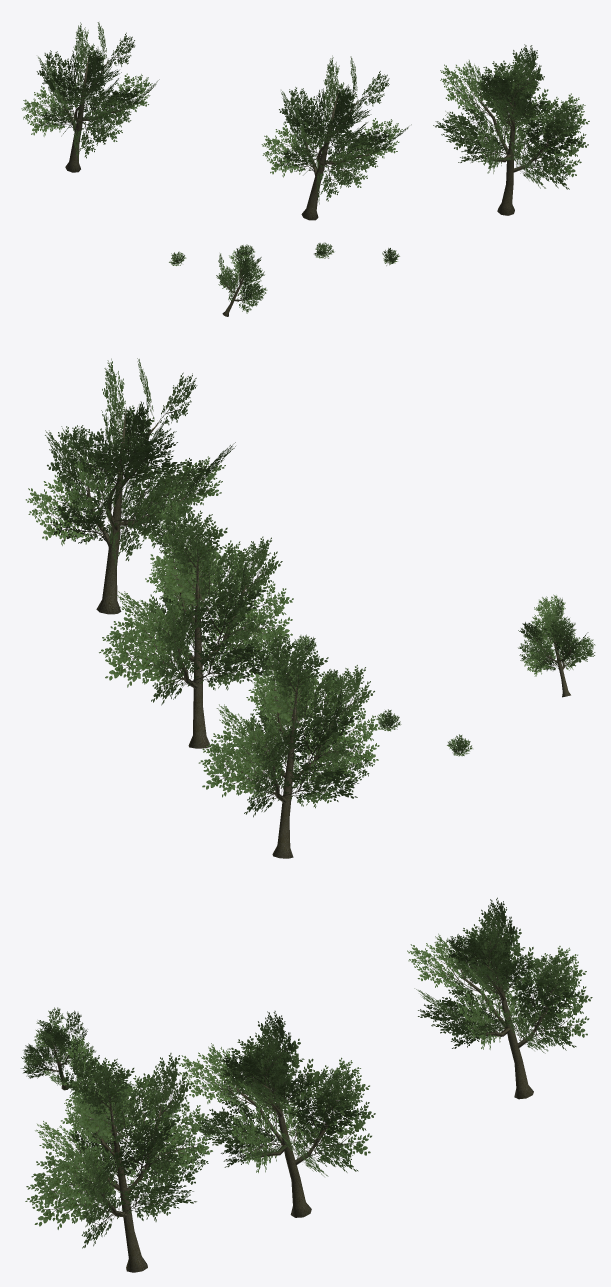
File: Trees_1_Right_Far_COMBO.fbx
The picture shows the model from 3 angles, top to bottom: view 1: azimuth 30°, elevation 25°; view 2: azimuth 150°, elevation 25°; view 3: azimuth 270°, elevation 25°; orthographic projection. The views are drawn at different scales.
Visible parts, largest first — view 1: Sun_0016_Low_level_shrub; view 2: Sun_0016_Low_level_shrub; view 3: Sun_0016_Low_level_shrub.
Part boxes in pixels (bbox=[...]): Sun_0016_Low_level_shrub: bbox=[21, 22, 589, 316]; Sun_0016_Low_level_shrub: bbox=[25, 358, 595, 858]; Sun_0016_Low_level_shrub: bbox=[21, 897, 592, 1272].
Size of the model in its own units: 72.01 by 34.24 by 70.39.
